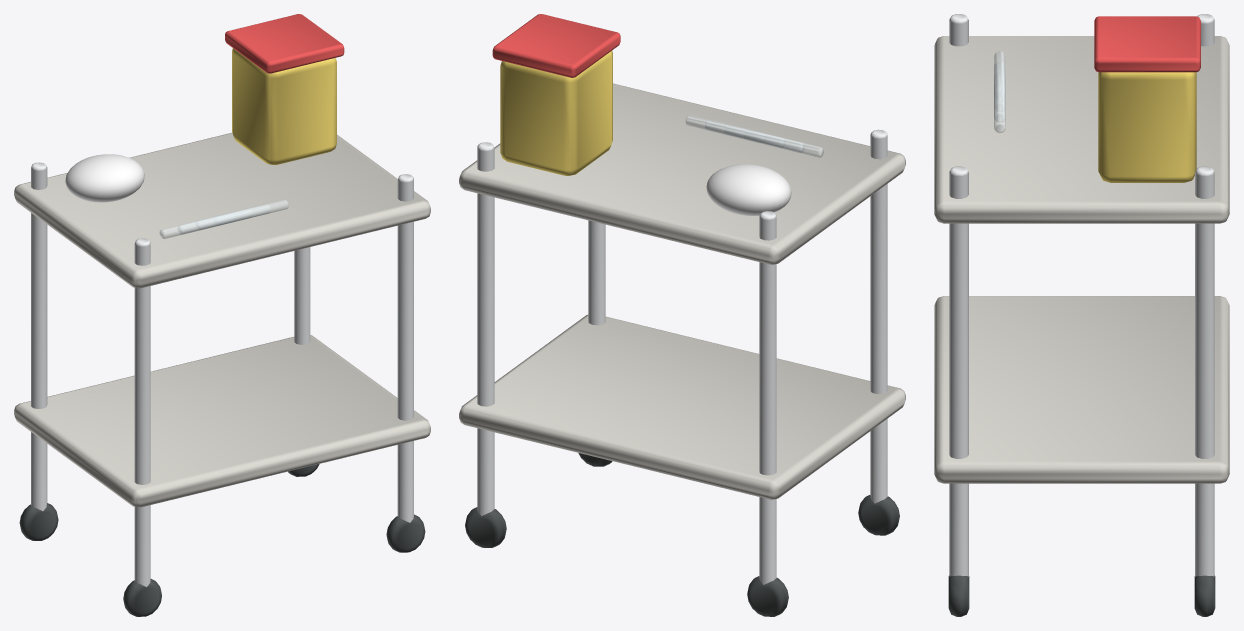
File: carrito_extraccion.glb
3 views of the same model, side by side, from view 1: azimuth 30°, elevation 25°; view 2: azimuth 150°, elevation 25°; view 3: azimuth 270°, elevation 25° (orthographic). The views are drawn at different scales.
Visible parts, largest first — view 1: bandeja0.2, bandeja0.55, punzantes, poste-1-1, poste1-1, poste-11, punzantes_tapa, algodon, poste11, rueda1-1, rueda-1-1, rueda-11 (+4 smaller); view 2: bandeja0.2, bandeja0.55, punzantes, poste-11, poste11, poste-1-1, punzantes_tapa, algodon, poste1-1, rueda-11, rueda-1-1, rueda11 (+3 smaller); view 3: bandeja0.2, bandeja0.55, punzantes, poste1-1, poste11, punzantes_tapa, rueda1-1, rueda11, poste-1-1, jeringa3, jeringa0, jeringa1 (+1 smaller).
Part boxes in pixels (x1,y1,x2,y2): bandeja0.2: (14, 335, 430, 507); bandeja0.55: (14, 133, 430, 288); punzantes: (232, 48, 336, 164); poste-1-1: (134, 238, 150, 586); poste1-1: (397, 174, 413, 522); poste-11: (31, 162, 47, 510); punzantes_tapa: (225, 14, 344, 73); algodon: (65, 154, 144, 202); poste11: (294, 247, 310, 344); rueda1-1: (386, 514, 425, 552); rueda-1-1: (123, 579, 161, 616); rueda-11: (19, 503, 58, 540); bandeja0.2: (459, 314, 905, 499); bandeja0.55: (459, 83, 905, 264); punzantes: (500, 51, 612, 175); poste-11: (759, 211, 776, 584); poste11: (477, 142, 494, 515); poste-1-1: (870, 129, 887, 503); punzantes_tapa: (492, 14, 620, 77); algodon: (706, 164, 791, 215); poste1-1: (588, 220, 605, 325); rueda-11: (747, 576, 788, 616); rueda-1-1: (858, 495, 899, 535); rueda11: (465, 507, 506, 547); bandeja0.2: (934, 296, 1229, 483); bandeja0.55: (934, 36, 1229, 223); punzantes: (1098, 72, 1196, 182); poste1-1: (949, 166, 968, 576); poste11: (1195, 166, 1214, 576); punzantes_tapa: (1094, 16, 1200, 72); rueda1-1: (948, 575, 969, 616); rueda11: (1194, 575, 1215, 616); poste-1-1: (949, 14, 968, 46); jeringa3: (994, 87, 1005, 132); jeringa0: (994, 51, 1005, 95); jeringa1: (994, 62, 1005, 105).
Bounding box in the file's own units: 0.5 × 0.745 × 0.36.
